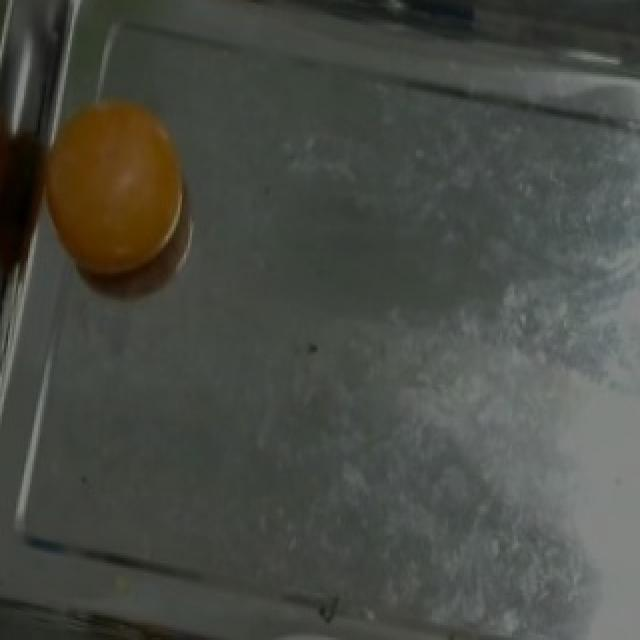Fruit: (26, 80, 206, 296)
